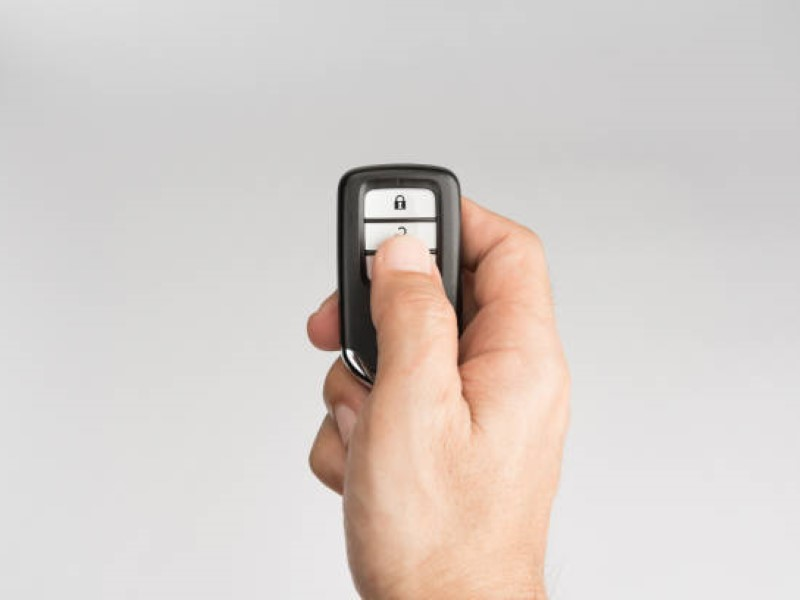carkey: (335, 163, 469, 410)
